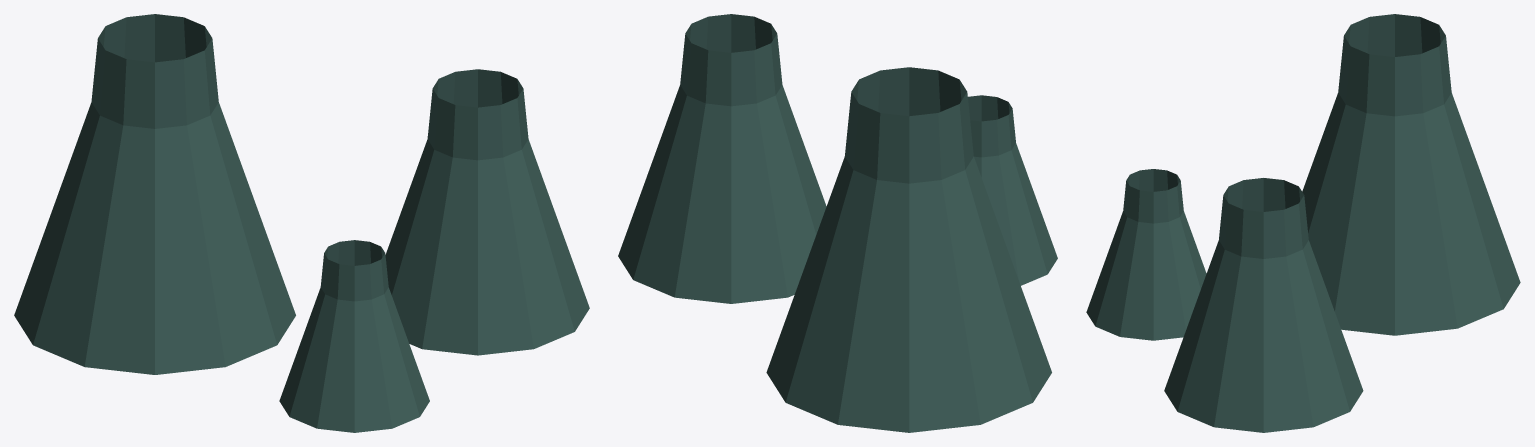
Rendered from Flask.fbx.
3 renders of one model, left to right at view 1: azimuth 30°, elevation 25°; view 2: azimuth 150°, elevation 25°; view 3: azimuth 270°, elevation 25°, orthographic. The views are drawn at different scales.
Parts seen in each view (by area): view 1: group_pasted__pCylinder1; view 2: group_pasted__pCylinder1; view 3: group_pasted__pCylinder1.
Part boxes in pixels (x1,y1,x2,y2): group_pasted__pCylinder1: (14,14,589,432); group_pasted__pCylinder1: (618,14,1057,432); group_pasted__pCylinder1: (1086,14,1520,432).
Bounding box in the file's own units: 0.9037 × 0.5152 × 0.8144.
